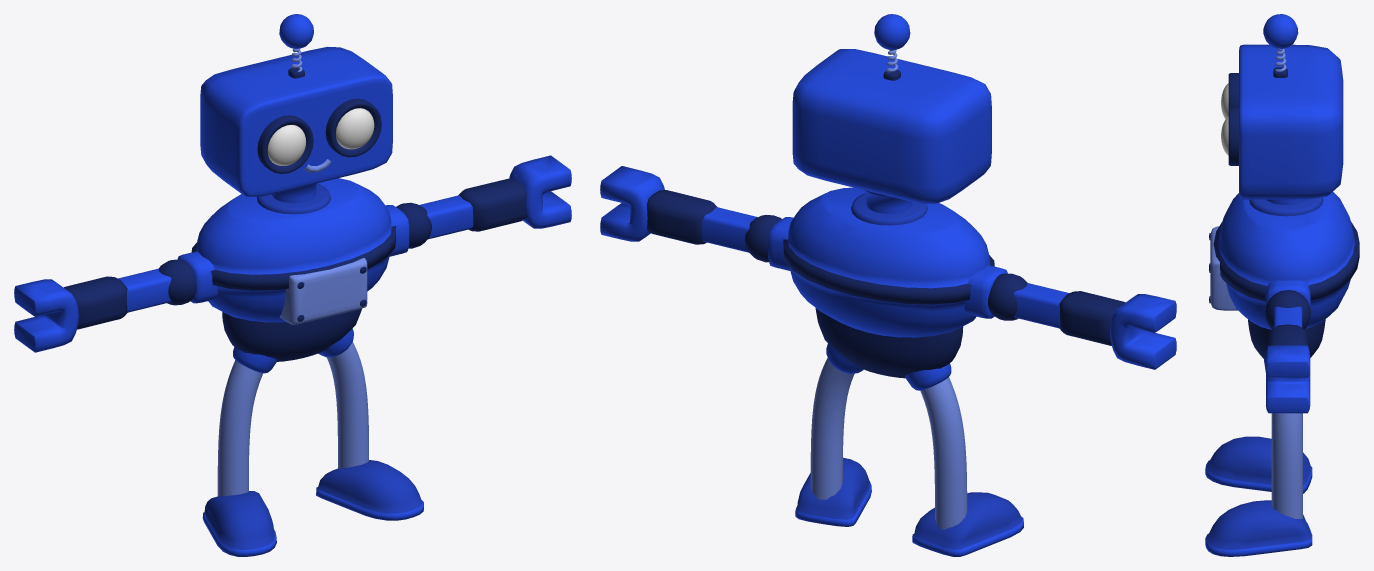
File: robot.gltf
3 views of the same model, side by side, from view 1: azimuth 30°, elevation 25°; view 2: azimuth 150°, elevation 25°; view 3: azimuth 270°, elevation 25° (orthographic). The views are drawn at different scales.
Parts seen in each view (by area): view 1: Robot; view 2: Robot; view 3: Robot.
Part boxes in pixels (box(x1,y1,x2,y2)): Robot: box(14, 14, 571, 556); Robot: box(600, 14, 1176, 556); Robot: box(1205, 14, 1359, 556).
Bounding box in the file's own units: 2.78 × 2.45 × 0.6948.
